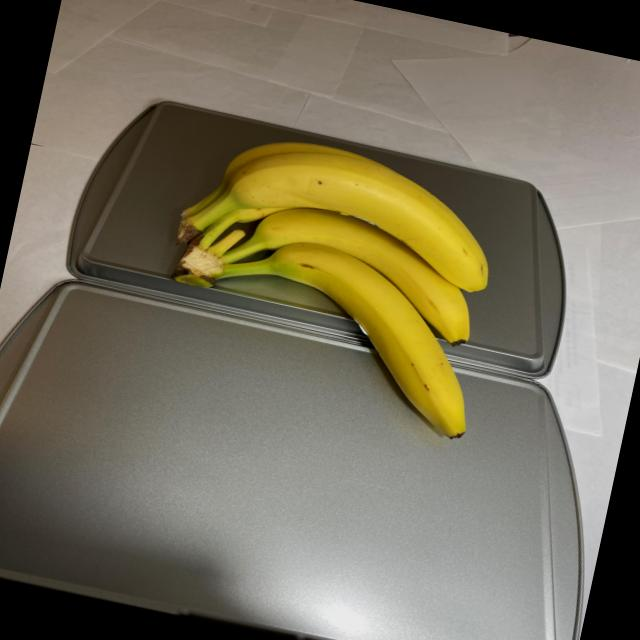banana: (142, 115, 522, 441)
